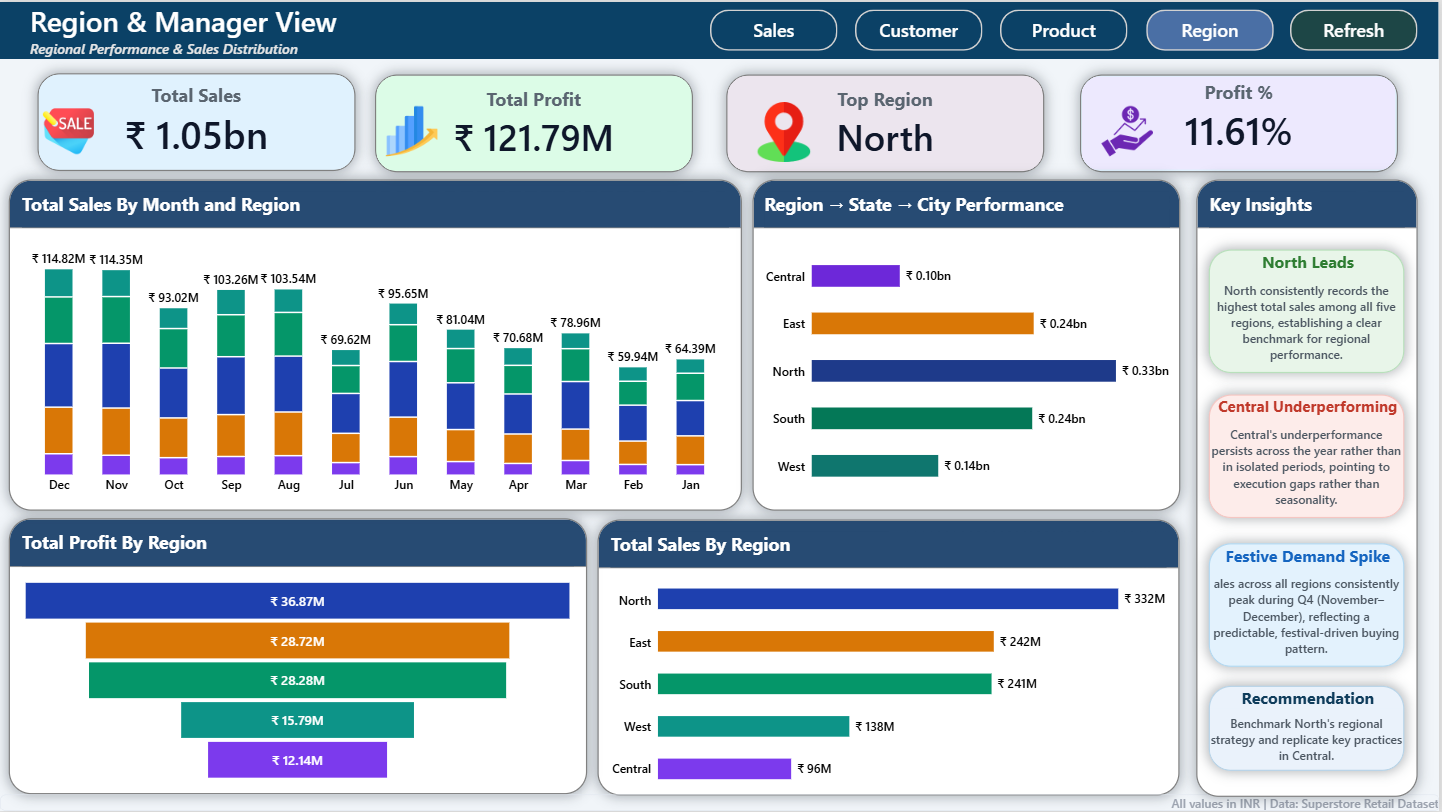

Layout of this report page (visuals, bound fields, positions):
{"tool":"powerbi","page":{"name":"Region & Manager View","canvas":[1920,1080],"ordinal":3},"visuals":[{"type":"clusteredBarChart","title":"Total Sales By Region","fields":{"Category":["Orders.Region","Orders.State","Orders.City"],"Series":["Orders.Region"],"Y":["Orders.Total Sales"]},"box":[795.9,690.2,775.7,368.4],"z":0},{"type":"funnel","title":"Total Profit By Region","fields":{"Category":["Orders.Region"],"Y":["Orders.Total Profit"]},"box":[10.9,688.6,771,368.4],"z":1000},{"type":"lineStackedColumnComboChart","title":"Total Sales By Month and Region","fields":{"Category":["DateTable.Month"],"Series":["Orders.Region"],"Y":["Orders.Total Sales"]},"box":[12.4,236.3,977.7,441.5],"z":2000},{"type":"textbox","box":[0,1057,1919.7,23.3],"z":3000},{"type":"textbox","box":[0,0,1919,76],"z":4000},{"type":"actionButton","box":[946.6,9.3,170,55],"z":5000},{"type":"cardVisual","fields":{"Data":["Orders.Top Region"]},"box":[968,95.9,424,130.6],"z":6000},{"type":"cardVisual","fields":{"Data":["Orders.Total Profit"]},"box":[500.6,95.9,424,130],"z":7000},{"type":"cardVisual","fields":{"Data":["Orders.Total Sales"]},"box":[49.3,95.3,424,130],"z":8000},{"type":"cardVisual","fields":{"Data":["Orders.Profit %"]},"box":[1439.4,96.4,424,130],"z":9000},{"type":"image","box":[49.7,138.3,82.4,68.4],"z":10000},{"type":"image","box":[500.5,138.3,97.9,68.4],"z":11000},{"type":"image","box":[1453.4,138.3,99.5,68.4],"z":12000},{"type":"image","box":[990.7,132.6,109.9,80.2],"z":13000},{"type":"shape","title":"Key Insights","box":[1594.8,236.3,295,823],"z":14000},{"type":"shape","title":"North Leads","box":[1611.9,329.5,261,165],"z":15000},{"type":"shape","title":"Central Underperforming","box":[1611.9,523.8,261,165],"z":16000},{"type":"shape","title":"Festive Demand Spike","box":[1611.9,721.2,261,165],"z":17000},{"type":"shape","title":"Recommendation","box":[1611.9,912.4,261.1,113.5],"z":18000},{"type":"clusteredBarChart","title":"Region → State → City Performance","fields":{"Category":["Orders.Region","Orders.State","Orders.City"],"Y":["Orders.Total Sales"]},"box":[1002.6,236.3,570.5,441.5],"z":19000},{"type":"actionButton","box":[1528,9.3,170,55],"z":20000},{"type":"actionButton","box":[1333.7,9.3,170,55],"z":21000},{"type":"actionButton","box":[1139.4,9.3,170,55],"z":22000},{"type":"actionButton","box":[1720.7,9.3,170,55],"z":22001}]}

Visuals, with their boxes in screenshot pixels (x1, y1, x2, y2), scaled from the page's 1920x1080 canvas onto the 1442x812 screenshot:
"Total Sales By Region" clusteredBarChart: Rect(598, 519, 1180, 796)
"Total Profit By Region" funnel: Rect(8, 518, 587, 795)
"Total Sales By Month and Region" lineStackedColumnComboChart: Rect(9, 178, 744, 510)
textbox: Rect(0, 795, 1441, 811)
textbox: Rect(0, 0, 1441, 57)
actionButton: Rect(711, 7, 839, 48)
cardVisual - Orders.Top Region: Rect(727, 72, 1045, 170)
cardVisual - Orders.Total Profit: Rect(376, 72, 694, 170)
cardVisual - Orders.Total Sales: Rect(37, 72, 355, 169)
cardVisual - Orders.Profit %: Rect(1081, 72, 1399, 170)
image: Rect(37, 104, 99, 155)
image: Rect(376, 104, 449, 155)
image: Rect(1092, 104, 1166, 155)
image: Rect(744, 100, 827, 160)
"Key Insights" shape: Rect(1198, 178, 1419, 796)
"North Leads" shape: Rect(1211, 248, 1407, 372)
"Central Underperforming" shape: Rect(1211, 394, 1407, 518)
"Festive Demand Spike" shape: Rect(1211, 542, 1407, 666)
"Recommendation" shape: Rect(1211, 686, 1407, 771)
"Region → State → City Performance" clusteredBarChart: Rect(753, 178, 1181, 510)
actionButton: Rect(1148, 7, 1275, 48)
actionButton: Rect(1002, 7, 1129, 48)
actionButton: Rect(856, 7, 983, 48)
actionButton: Rect(1292, 7, 1420, 48)
